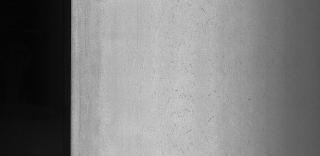silk spot: (153, 9, 249, 156)
